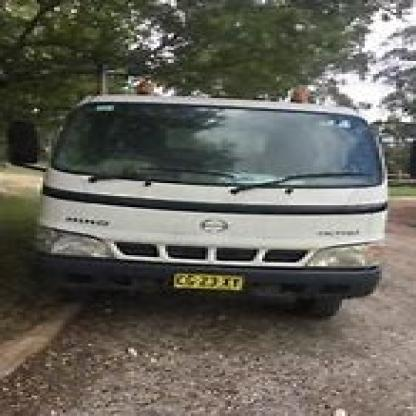dump_truck: (26, 63, 413, 336)
